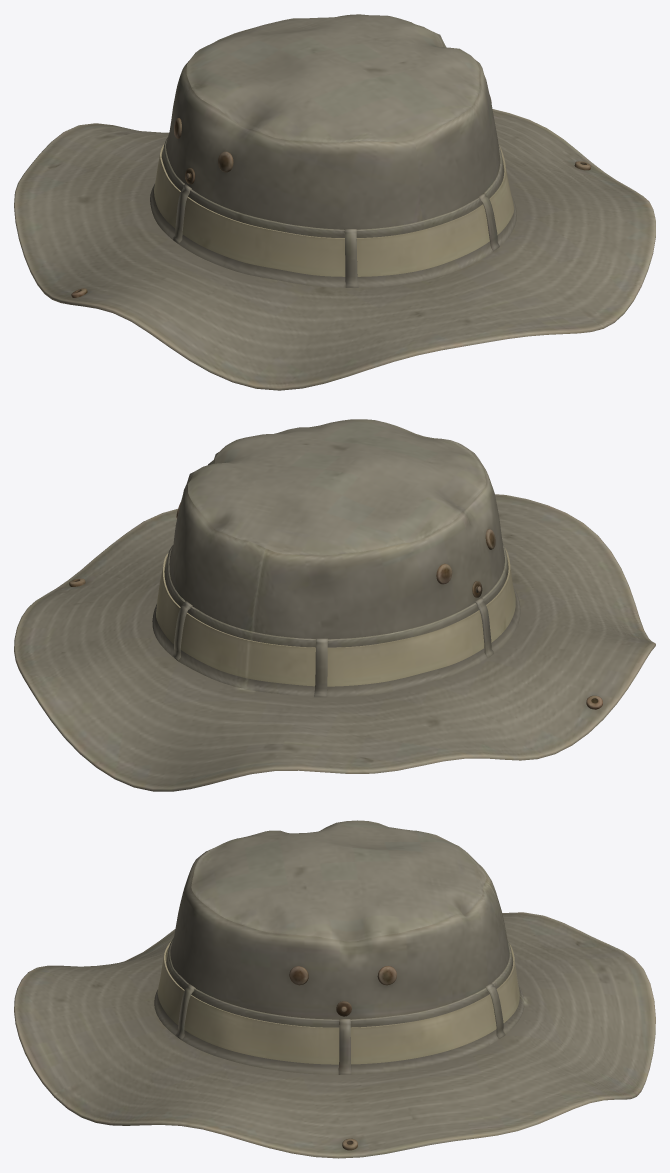
The model's file is fishermans_hat.glb.
3 renders of one model, top to bottom at view 1: azimuth 30°, elevation 25°; view 2: azimuth 150°, elevation 25°; view 3: azimuth 270°, elevation 25°, orthographic. The views are drawn at different scales.
Visible parts, largest first — view 1: fishermans_hat; view 2: fishermans_hat; view 3: fishermans_hat.
Part boxes in pixels (x1,y1,x2,y2): fishermans_hat: (14, 14, 655, 390); fishermans_hat: (14, 419, 655, 791); fishermans_hat: (14, 820, 655, 1158).
Bounding box in the file's own units: 0.3236 × 0.1239 × 0.35.
1 material, 1 textured.
